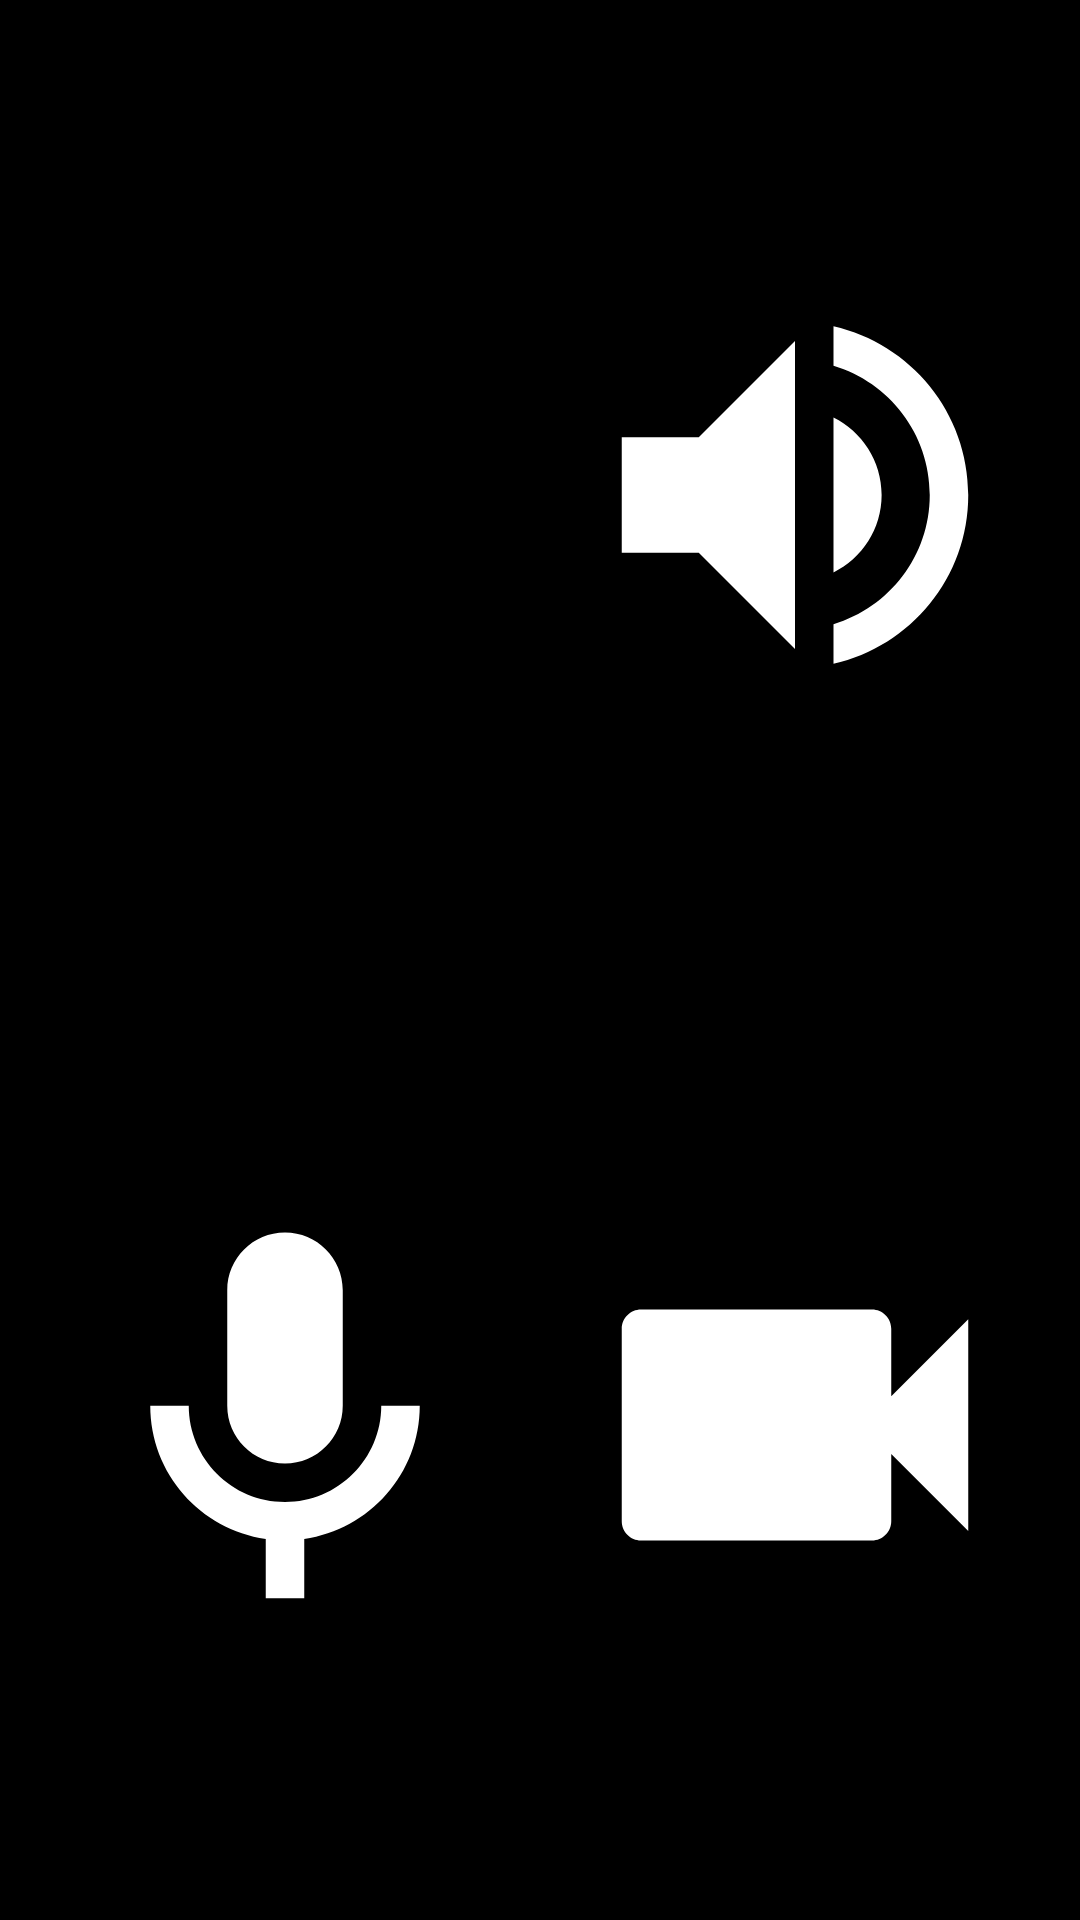

Point at icon controls on the screen. Image size 1080px×1920px, points as [x,y].
Camera: [795,1425]
Speaker: [795,495]
